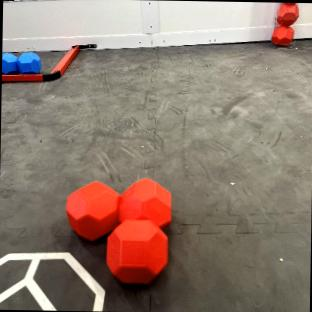Parking-R: (1, 43, 96, 81)
V5_BLUE: (17, 52, 40, 73)
V5_RED: (65, 177, 171, 284), (107, 220, 167, 283), (277, 2, 298, 24), (271, 24, 292, 45)
